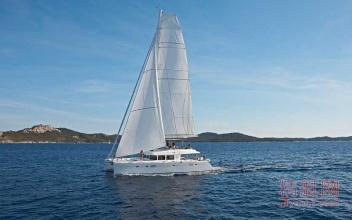fanchuan: (103, 10, 223, 182)
